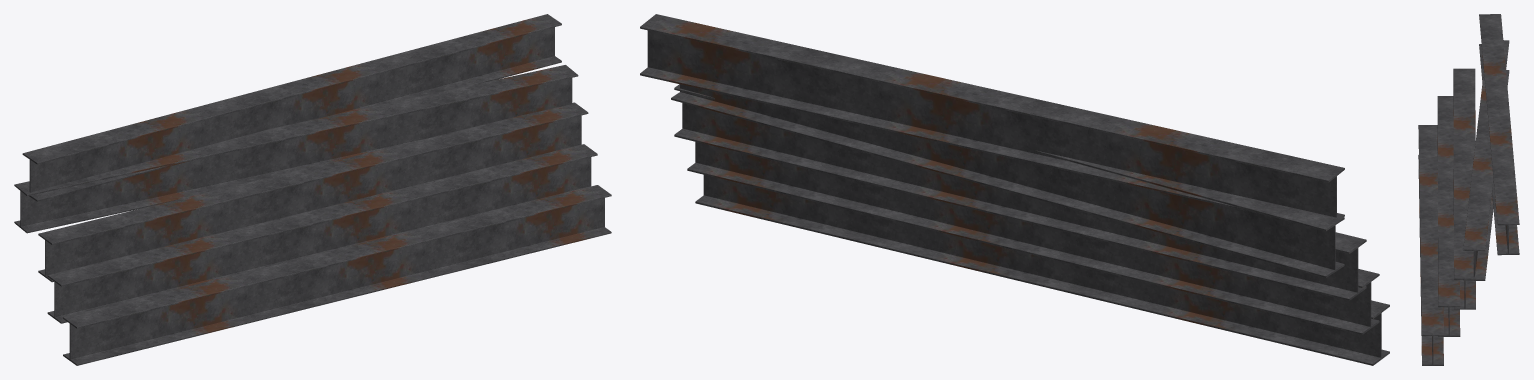
File: EST-MET-001_anim.glb
The picture shows the model from 3 angles, left to right: view 1: azimuth 30°, elevation 25°; view 2: azimuth 150°, elevation 25°; view 3: azimuth 270°, elevation 25°; orthographic projection. The views are drawn at different scales.
Parts seen in each view (by area): view 1: EST-MET-001_anim0, EST-MET-001_anim4, EST-MET-001_anim1, EST-MET-001_anim3, EST-MET-001_anim2; view 2: EST-MET-001_anim4, EST-MET-001_anim3, EST-MET-001_anim1, EST-MET-001_anim0, EST-MET-001_anim2; view 3: EST-MET-001_anim4, EST-MET-001_anim0, EST-MET-001_anim2, EST-MET-001_anim1, EST-MET-001_anim3.
Boxes of the visible parts, <box> form: EST-MET-001_anim0: <box>63,185,611,365</box>; EST-MET-001_anim4: <box>22,14,561,201</box>; EST-MET-001_anim1: <box>47,144,597,323</box>; EST-MET-001_anim3: <box>14,65,578,233</box>; EST-MET-001_anim2: <box>38,102,588,282</box>; EST-MET-001_anim4: <box>640,14,1344,217</box>; EST-MET-001_anim3: <box>671,84,1344,277</box>; EST-MET-001_anim1: <box>687,142,1379,334</box>; EST-MET-001_anim0: <box>695,175,1389,365</box>; EST-MET-001_anim2: <box>674,84,1366,300</box>; EST-MET-001_anim4: <box>1479,14,1519,255</box>; EST-MET-001_anim0: <box>1418,125,1443,365</box>; EST-MET-001_anim2: <box>1453,68,1475,309</box>; EST-MET-001_anim1: <box>1437,96,1460,336</box>; EST-MET-001_anim3: <box>1463,40,1509,280</box>.
Size of the model in its own units: 3.04 by 0.9389 by 0.6105.
1 material, 1 textured.
